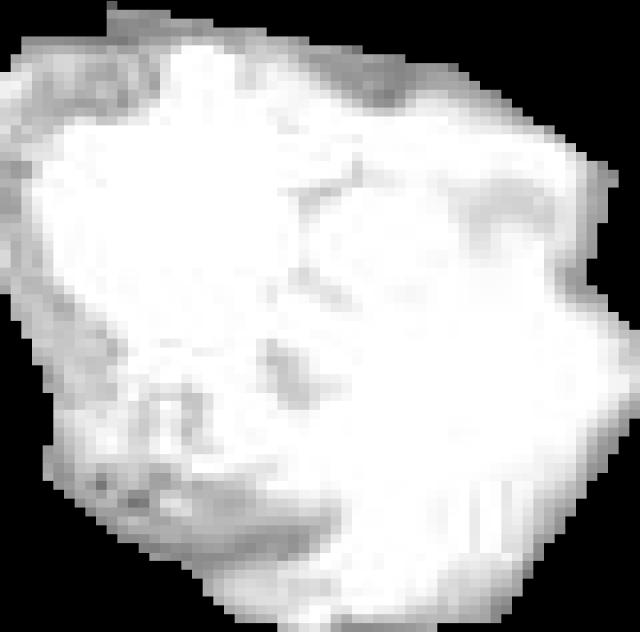tumor_moderate_chance: (0, 1, 640, 632)
